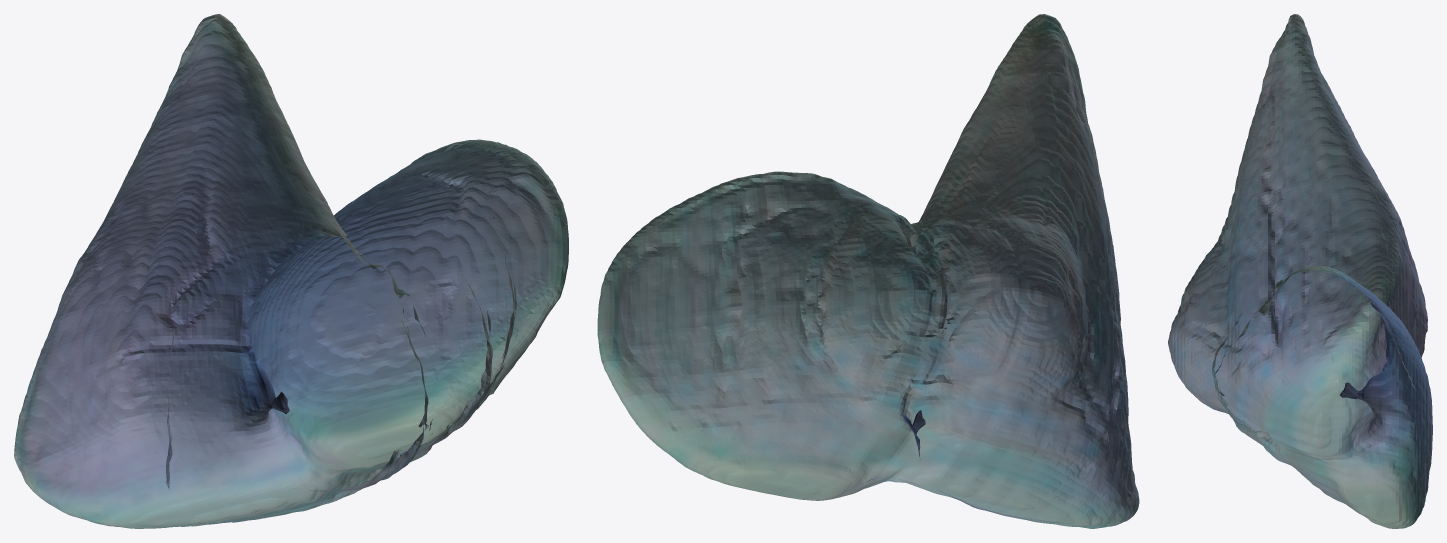
3 renders of one model, left to right at view 1: azimuth 30°, elevation 25°; view 2: azimuth 150°, elevation 25°; view 3: azimuth 270°, elevation 25°, orthographic. The views are drawn at different scales.
Visible parts, largest first — view 1: geometry_0; view 2: geometry_0; view 3: geometry_0.
Part boxes in pixels (x1,y1,x2,y2): geometry_0: (14, 14, 568, 528); geometry_0: (597, 14, 1139, 528); geometry_0: (1168, 14, 1432, 528).
Size of the model in its own units: 1.6 by 1.43 by 0.8437.
